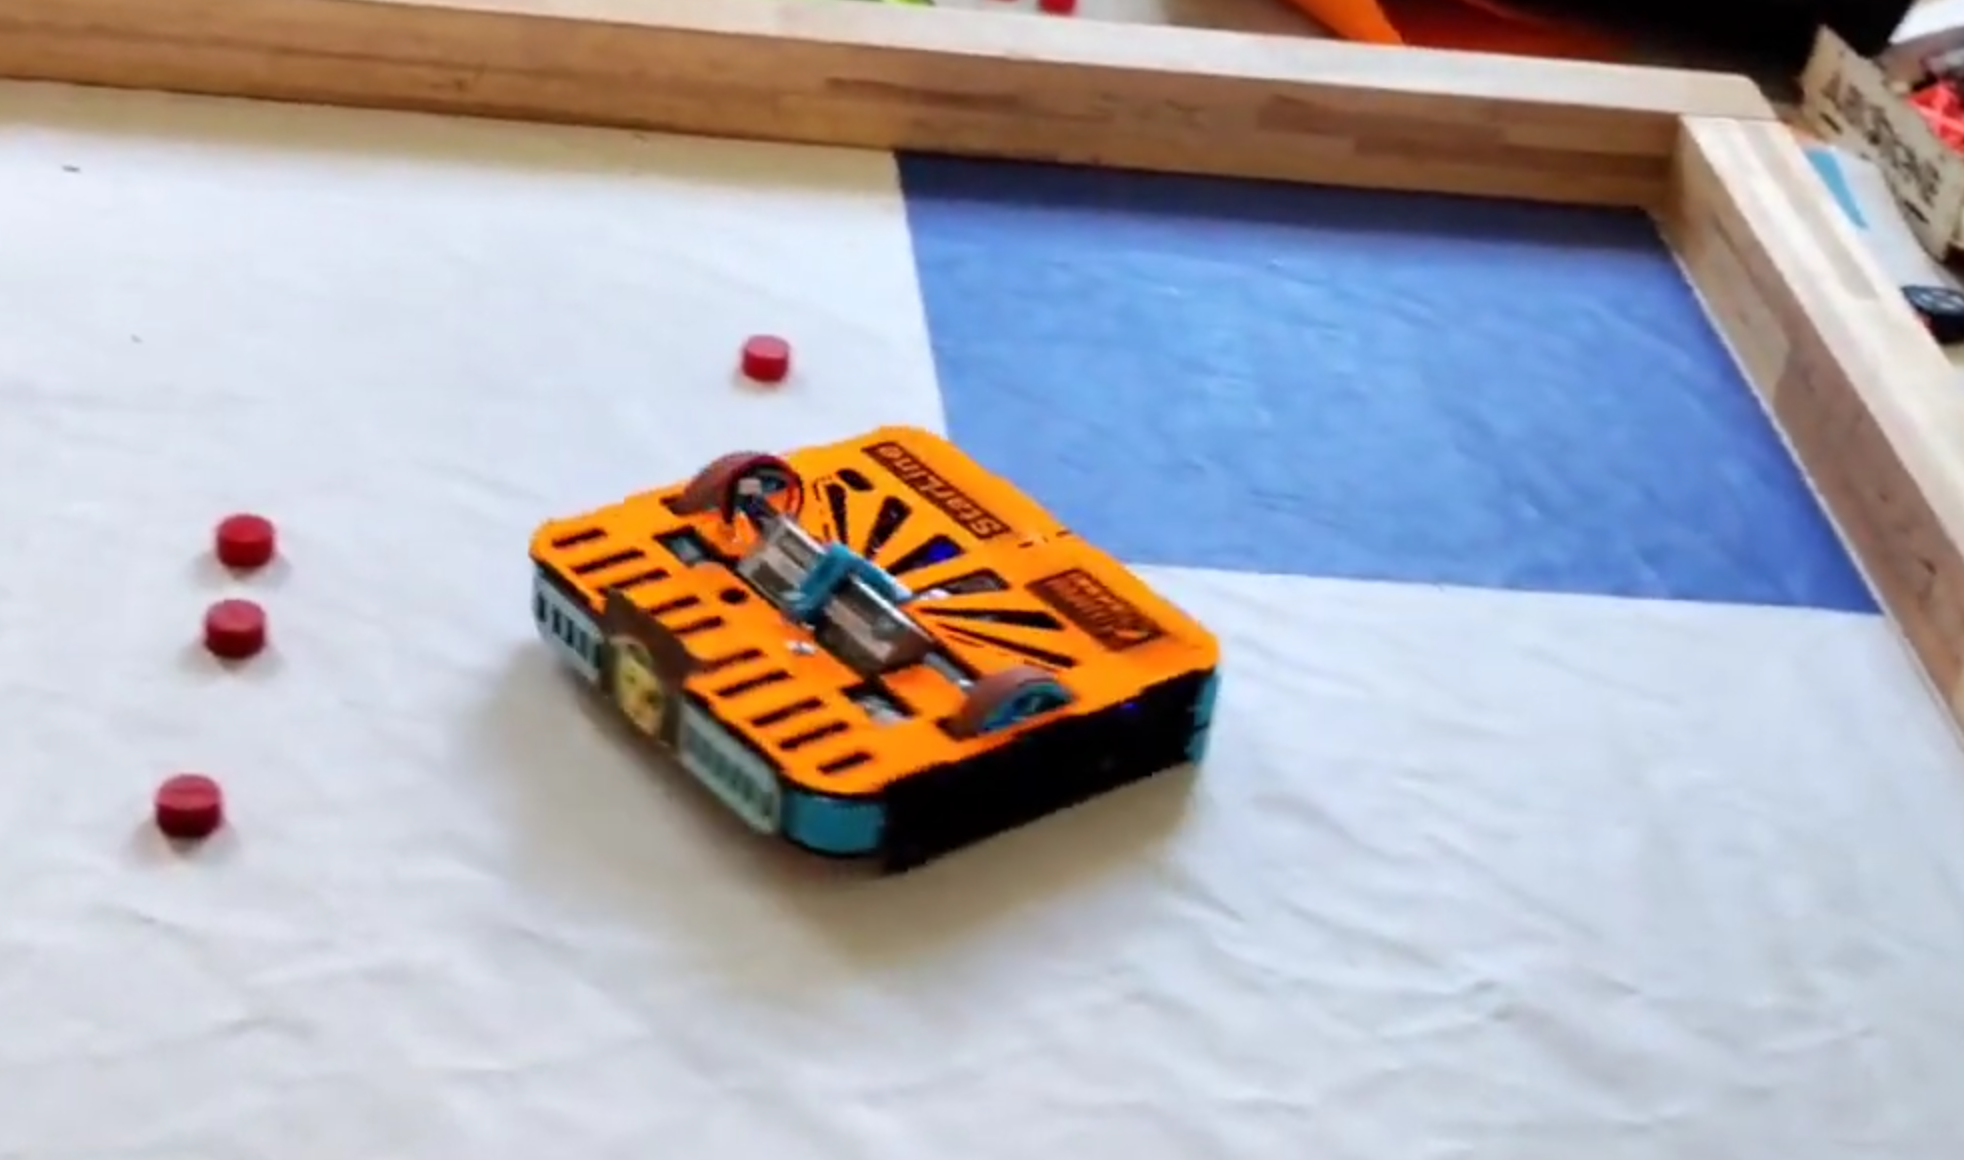blue_base: (894, 146, 1883, 615)
red_puck: (155, 771, 221, 838), (206, 599, 265, 657), (217, 514, 276, 568), (743, 331, 789, 380)
